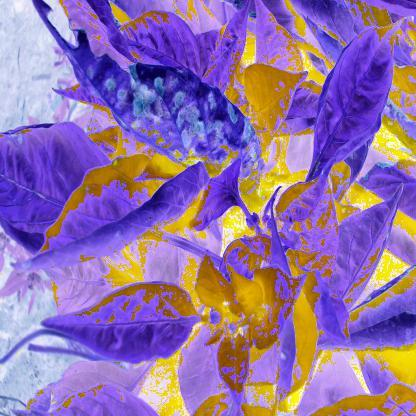Bell_pepper leaf: (35, 3, 266, 206)
